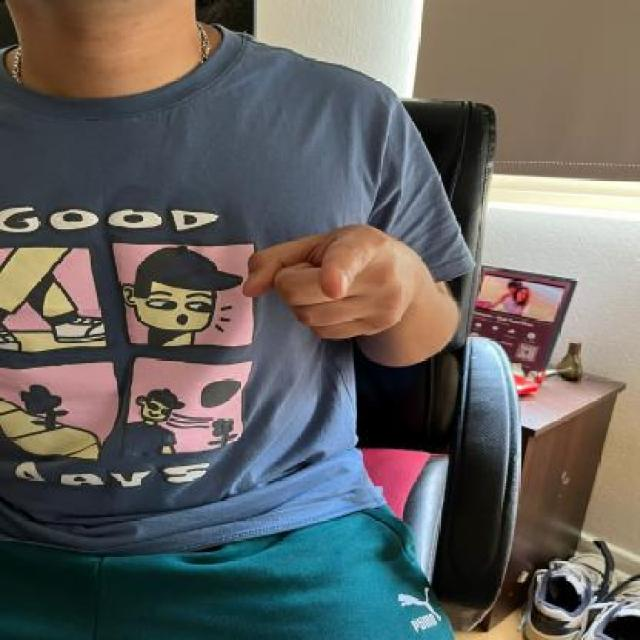X: (246, 223, 414, 346)
